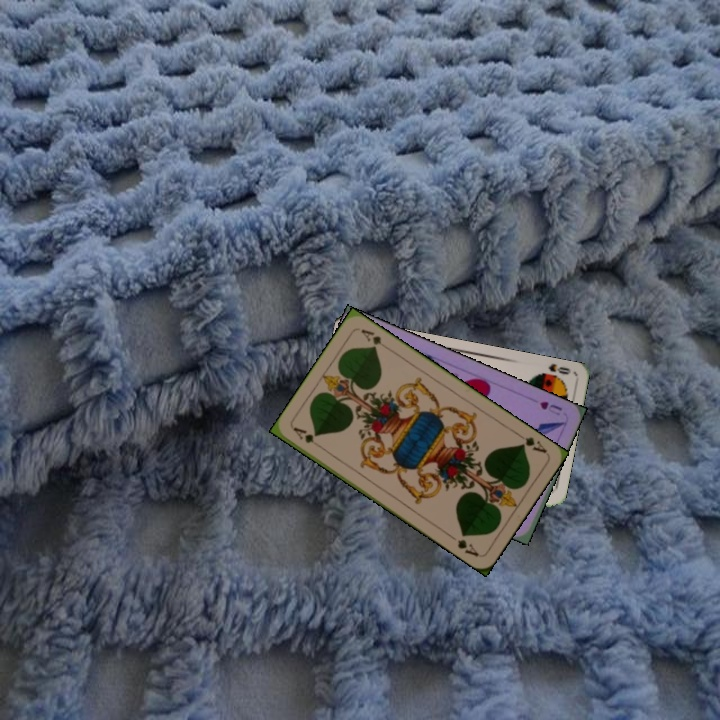GA: (289, 423, 325, 451), (513, 429, 550, 456)
HU: (536, 397, 565, 418)
SO: (534, 360, 574, 382)
